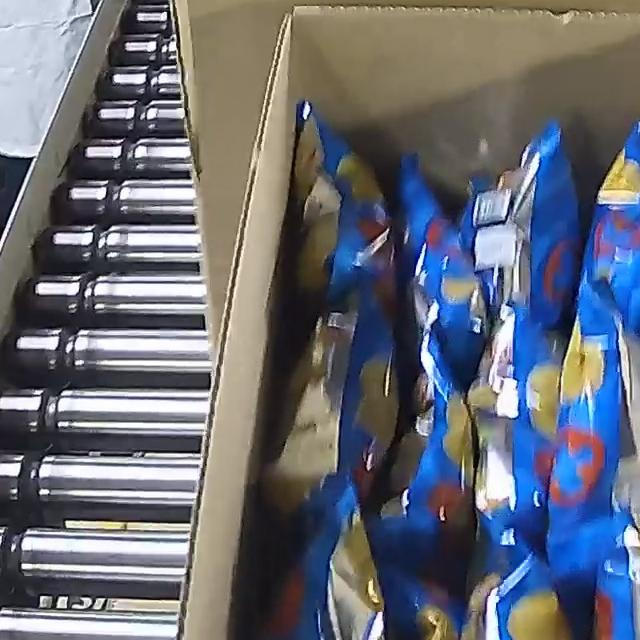paprika: (223, 95, 640, 640)
